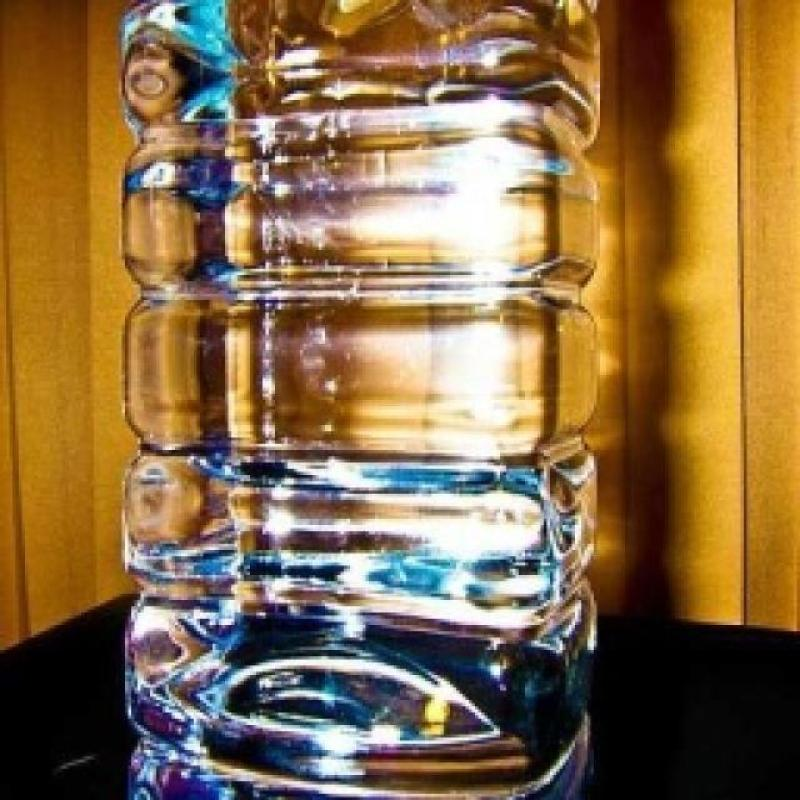botella: (115, 0, 600, 800)
